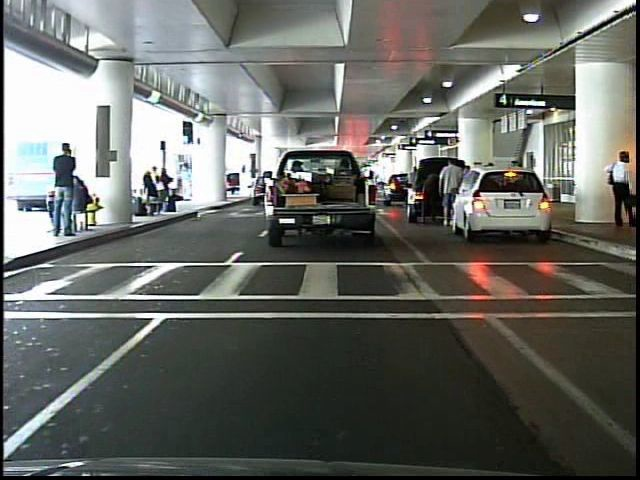person: (51, 137, 85, 240), (602, 146, 638, 233), (436, 156, 464, 229), (178, 160, 195, 203)
